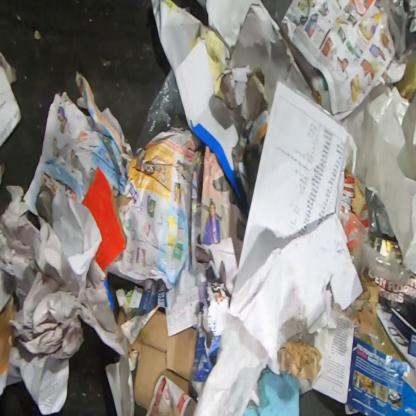cardboard: (174, 38, 254, 222), (127, 309, 198, 411), (81, 165, 132, 272), (339, 167, 371, 231)
soft_plastic: (338, 83, 416, 275), (338, 210, 412, 286), (136, 68, 191, 150), (373, 0, 415, 66)
